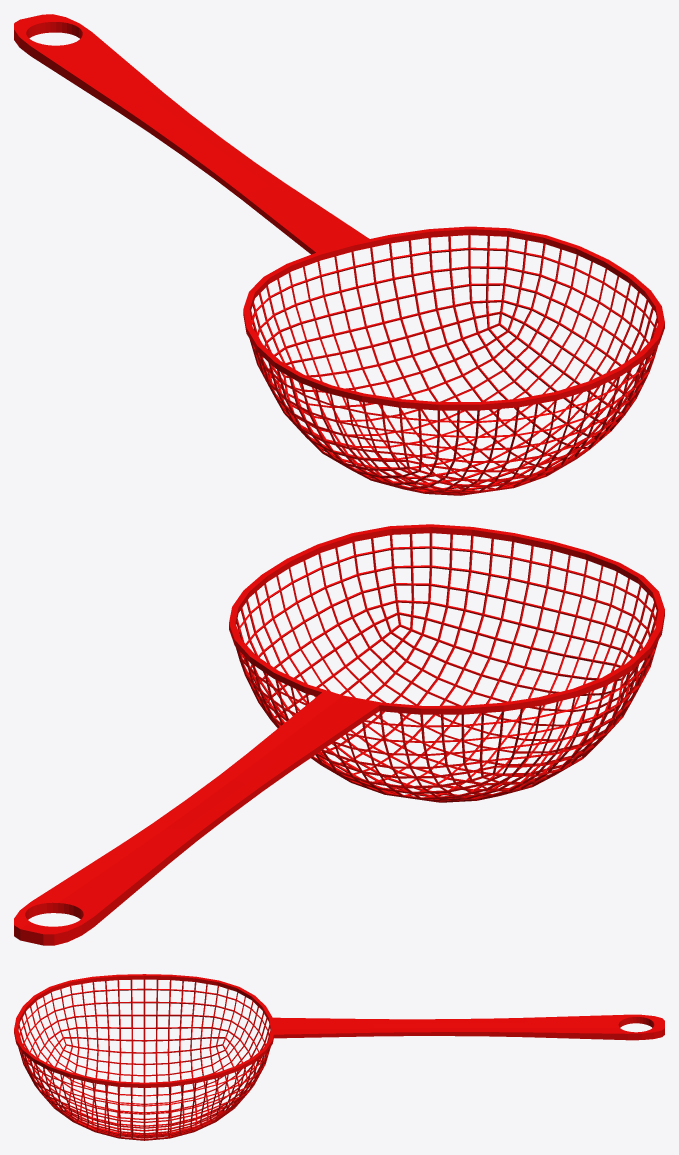
Rendered from strainerred.glb.
3 renders of one model, top to bottom at view 1: azimuth 30°, elevation 25°; view 2: azimuth 150°, elevation 25°; view 3: azimuth 270°, elevation 25°, orthographic. The views are drawn at different scales.
Visible parts, largest first — view 1: strainerred; view 2: strainerred; view 3: strainerred.
Boxes of the visible parts, x1=… form: strainerred: x1=14, y1=14, x2=664, y2=495; strainerred: x1=14, y1=524, x2=664, y2=945; strainerred: x1=14, y1=974, x2=664, y2=1140.
Size of the model in its own units: 0.0683 by 0.0289 by 0.1703.
